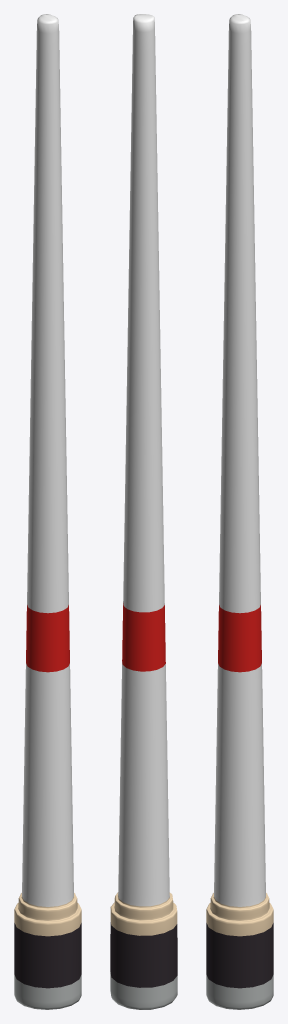
Rendered from Barquilla.fbx.
The picture shows the model from 3 angles, left to right: view 1: azimuth 90°, elevation 25°; view 2: azimuth 150°, elevation 25°; view 3: azimuth 270°, elevation 25°; orthographic projection.
Parts seen in each view (by area): view 1: Cylinder.001; view 2: Cylinder.001; view 3: Cylinder.001.
Part boxes in pixels (x1,y1,x2,y2): Cylinder.001: [14, 14, 81, 1009]; Cylinder.001: [110, 14, 177, 1009]; Cylinder.001: [206, 14, 273, 1009].
Size of the model in its own units: 45.62 by 729 by 45.62.
